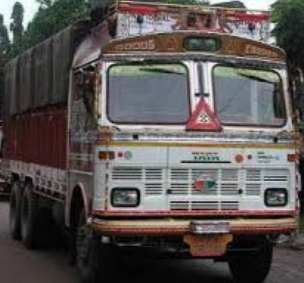truck: (1, 1, 296, 281)
